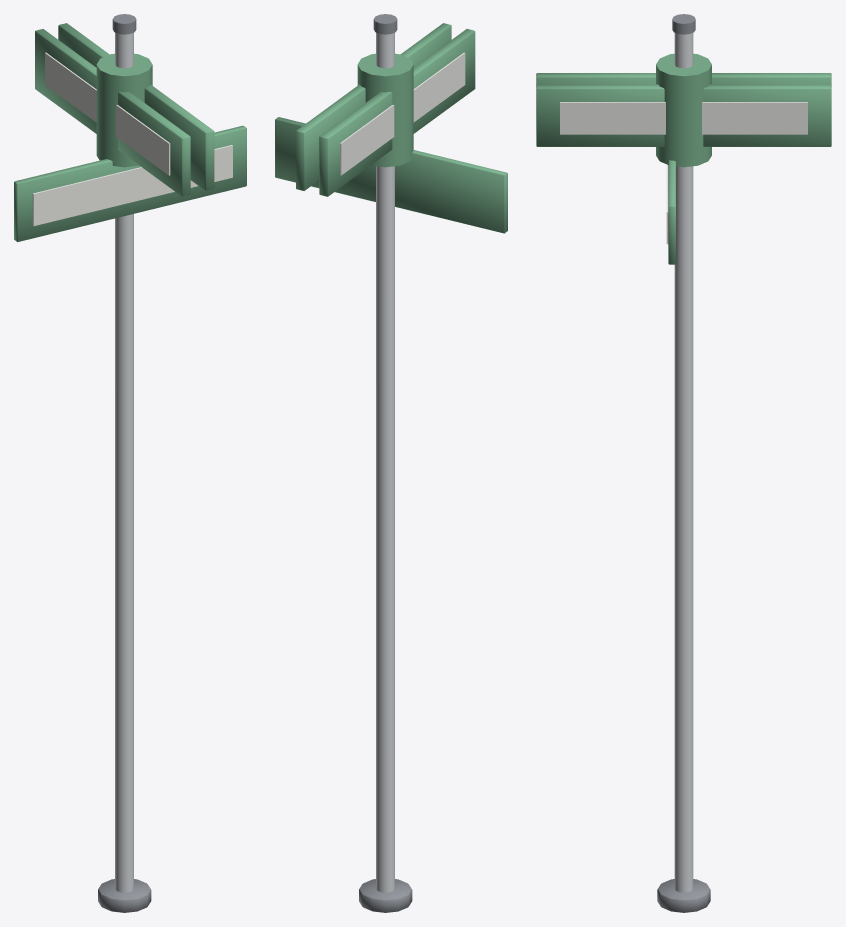
Rendered from Sign_Blades.fbx.
3 renders of one model, left to right at view 1: azimuth 30°, elevation 25°; view 2: azimuth 150°, elevation 25°; view 3: azimuth 270°, elevation 25°, orthographic.
Visible parts, largest first — view 1: LOD0; view 2: LOD0; view 3: LOD0.
Part boxes in pixels (x1,y1,x2,y2): LOD0: (14, 14, 246, 912); LOD0: (275, 14, 507, 912); LOD0: (536, 14, 831, 912).
Size of what is drawn, in the model's own units: 90 by 330 by 100.
